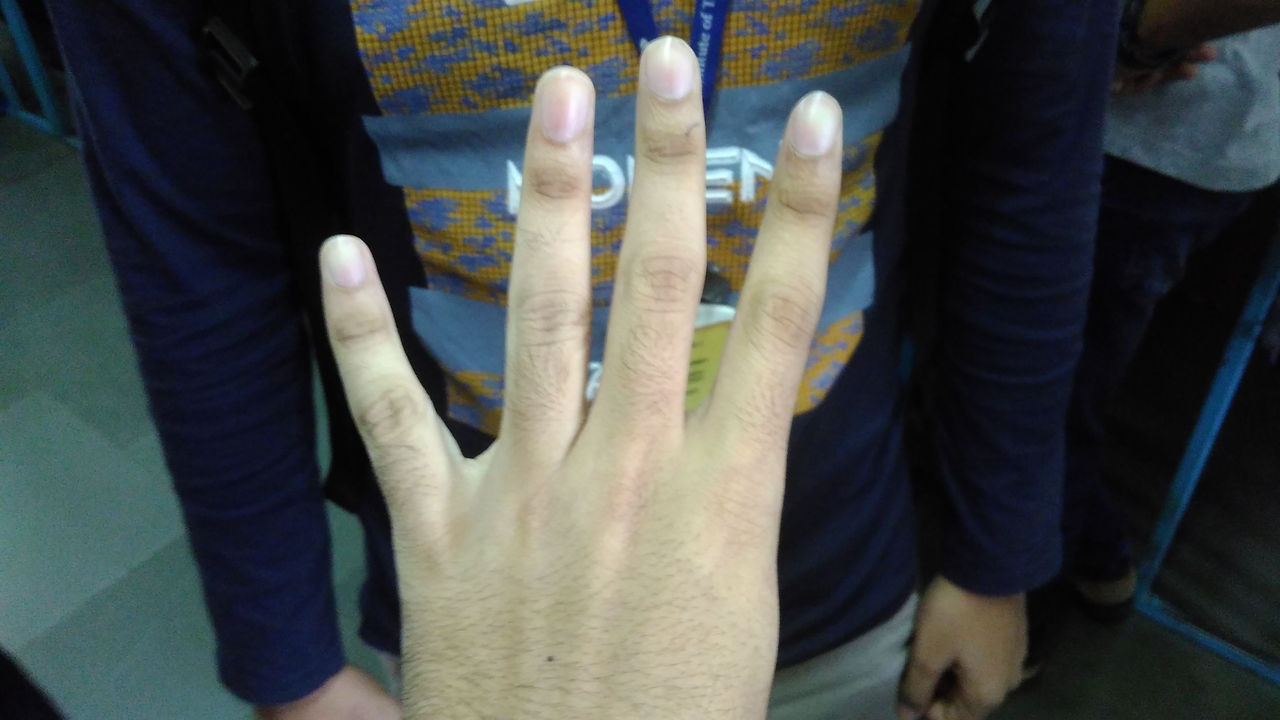fingertip: (520, 62, 598, 138), (306, 230, 378, 304), (630, 32, 702, 104), (780, 86, 852, 154)
